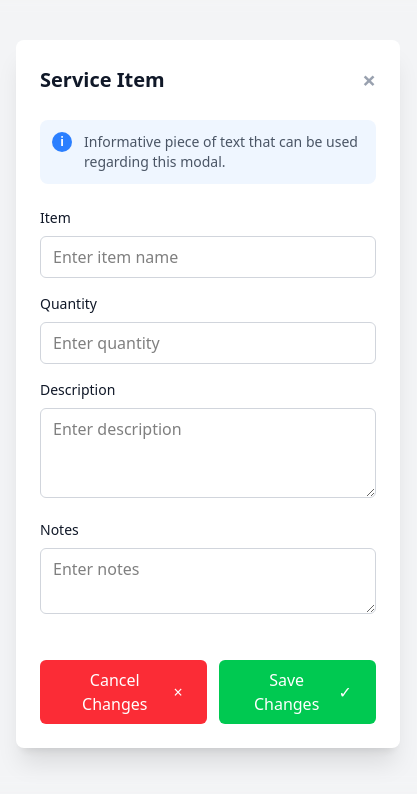
Scenario: ServiceFormModal › clears validation errors when user starts typing
The width and height of the screenshot is (417, 794).
Click the button "Save Changes ✓" at (297, 692), box [219,660,376,724]
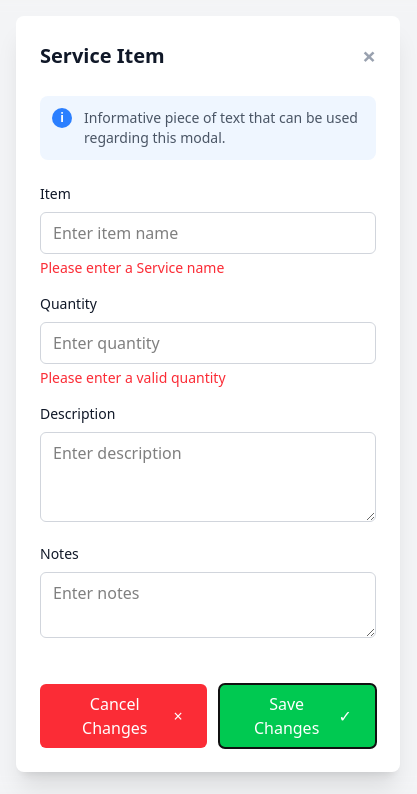
Expected: the text "Please enter a Service name" is shown, [40,258,224,277]
Type "Test" into the field with placeholder "Enter item name" at (208, 233), box [40,212,376,254]
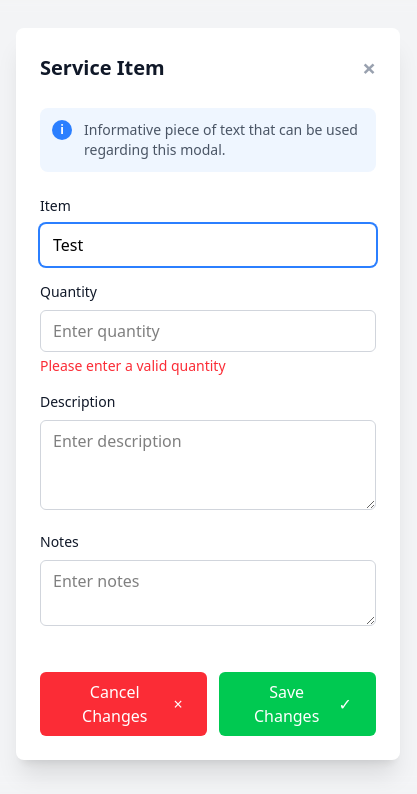
Expected: the text "Please enter a Service name" is gone
